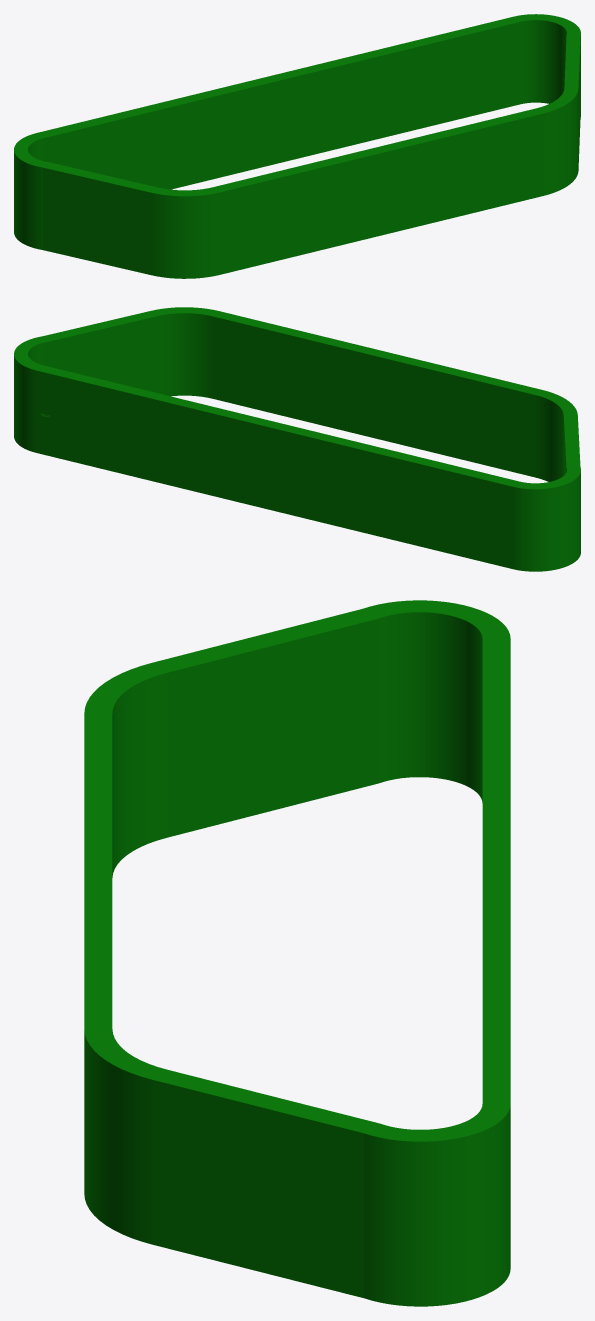
The model's file is _2025_Drivetrain_Mock_Tracks_R1.obj.
3 renders of one model, top to bottom at view 1: azimuth 30°, elevation 25°; view 2: azimuth 150°, elevation 25°; view 3: azimuth 270°, elevation 25°, orthographic. The views are drawn at different scales.
Visible parts, largest first — view 1: mesh17345, mesh17332, mesh17336, mesh17330, mesh17331, mesh17344, mesh17333, mesh17329; view 2: mesh17346, mesh17341, mesh17336, mesh17329, mesh17343, mesh17342, mesh17340, mesh17335, mesh17344; view 3: mesh17336, mesh17339, mesh17334, mesh17335, mesh17338, mesh17333, mesh17340.
Boxes of the visible parts, x1,y1,x2,y2 form: mesh17345: (43, 22, 520, 189); mesh17332: (220, 113, 543, 274); mesh17336: (14, 14, 580, 196); mesh17330: (43, 167, 150, 274); mesh17331: (151, 192, 220, 278); mesh17344: (520, 20, 566, 104); mesh17333: (543, 88, 578, 195); mesh17329: (14, 151, 42, 249); mesh17346: (36, 370, 512, 568); mesh17341: (212, 316, 535, 477); mesh17336: (14, 307, 580, 489); mesh17329: (512, 472, 580, 571); mesh17343: (48, 316, 157, 392); mesh17342: (157, 313, 212, 398); mesh17340: (535, 395, 563, 481); mesh17335: (14, 356, 36, 452); mesh17344: (28, 342, 48, 366); mesh17336: (84, 600, 510, 1141); mesh17339: (166, 618, 378, 837); mesh17334: (152, 1080, 364, 1297); mesh17335: (364, 1105, 510, 1306); mesh17338: (379, 612, 482, 802); mesh17333: (84, 1030, 152, 1244); mesh17340: (112, 673, 166, 877).
Size of the model in its own units: 0.8728 by 0.124 by 0.2905.
